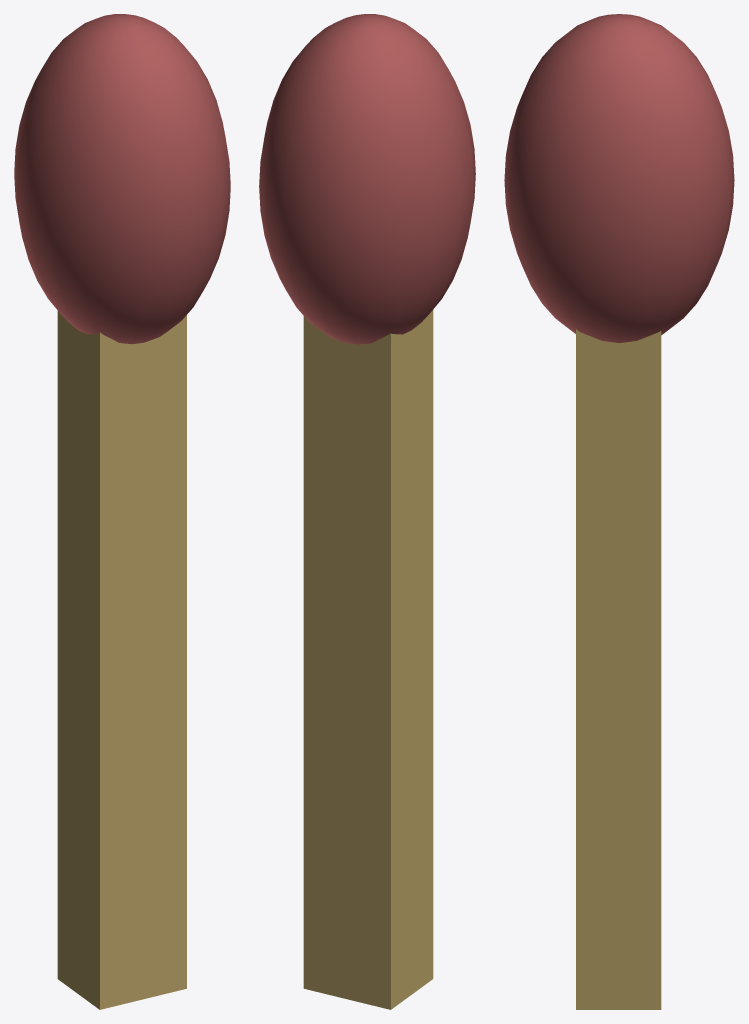
File: matchalined.fbx
3 views of the same model, side by side, from view 1: azimuth 30°, elevation 25°; view 2: azimuth 150°, elevation 25°; view 3: azimuth 270°, elevation 25° (orthographic).
Visible parts, largest first — view 1: pSphere3; view 2: pSphere3; view 3: pSphere3.
Boxes of the visible parts, x1,y1,x2,y2 form: pSphere3: (14, 14, 230, 1009); pSphere3: (259, 14, 475, 1009); pSphere3: (504, 14, 734, 1009).
Bounding box in the file's own units: 0.8326 × 4.15 × 0.8925.
